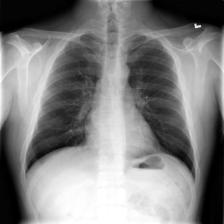normal: (17, 28, 199, 184)
